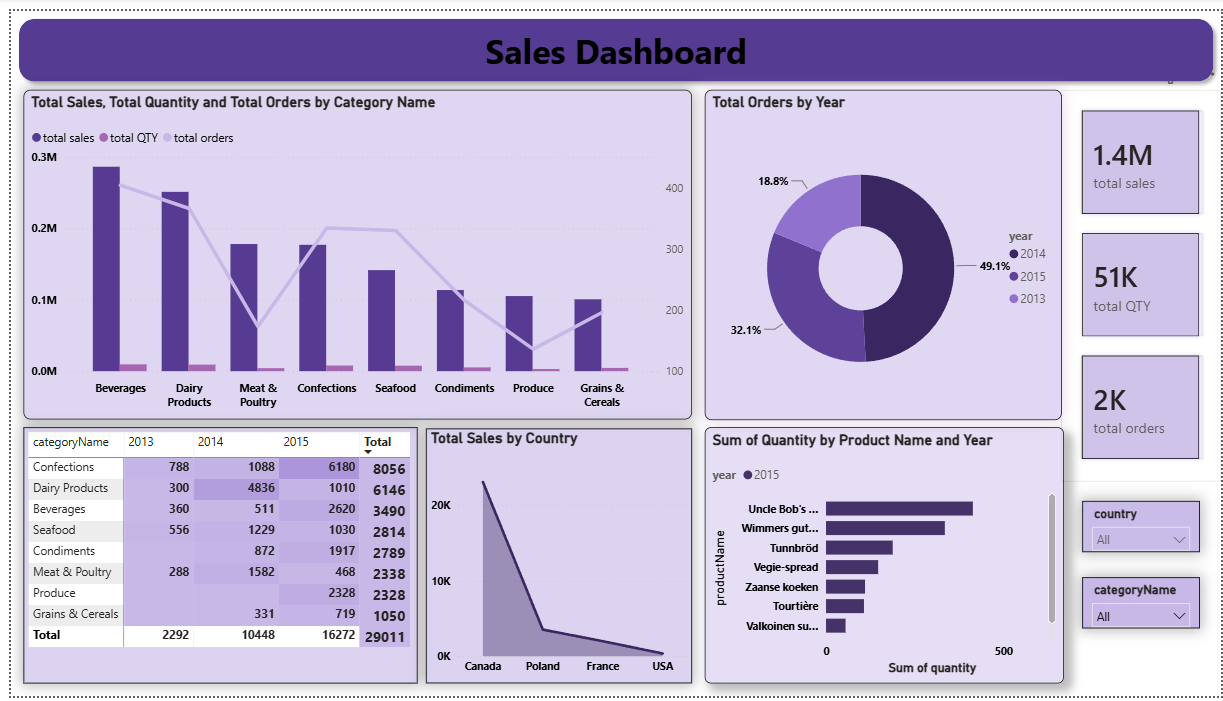

This screenshot's page, from the dashboard's own definition file:
{"tool":"powerbi","page":{"name":"dashboard","canvas":[1383,783],"ordinal":0},"visuals":[{"type":"slicer","fields":{"Values":["customers.country"]},"box":[1224.3,560,134.3,58.6],"z":0},{"type":"slicer","fields":{"Values":["order_details.categoryName"]},"box":[1224.3,647.1,134.3,58.6],"z":1000},{"type":"cardVisual","fields":{"Data":["order_details.total sales","order_details.total QTY","order_details.total orders"]},"box":[1200,90,182.9,448.6],"z":2000},{"type":"shape","box":[0,0,1383.1,89.6],"z":3000},{"type":"pivotTable","fields":{"Columns":["calender date.year"],"Values":["order_details.total sales"],"Rows":["order_details.categoryName"]},"box":[14.3,475.7,450,292.9],"z":4000},{"type":"lineClusteredColumnComboChart","title":"Total Sales, Total Quantity and Total Orders by Category Name","fields":{"Category":["order_details.categoryName"],"Y":["order_details.total sales","order_details.total QTY"],"Y2":["order_details.total orders"]},"box":[14.3,90,764.3,377.1],"z":5000},{"type":"donutChart","title":"Total Orders by Year","fields":{"Y":["order_details.total orders"],"Category":["calender date.year"]},"box":[792.9,90,407.8,377.9],"z":6000},{"type":"clusteredBarChart","title":"Sum of Quantity by Product Name and Year","fields":{"Category":["order_details.productName"],"Series":["calender date.year"],"Y":["Sum(order_details.quantity)"]},"box":[792.9,475.7,410,292.9],"z":7000},{"type":"stackedAreaChart","title":"Total Sales by Country","fields":{"Category":["customers.country"],"Y":["order_details.total sales"]},"box":[474.3,477.1,304.3,291.4],"z":8000}]}

Visuals, with their boxes in screenshot pixels (x1, y1, x2, y2), scaled from the page's 1383x783 canvas onto the 1223x701 screenshot:
slicer - customers.country: 1083/501/1201/554
slicer - order_details.categoryName: 1083/579/1201/632
cardVisual - order_details.total sales x order_details.total QTY: 1061/81/1222/482
shape: 0/0/1222/80
pivotTable - calender date.year x order_details.total sales: 13/426/411/688
"Total Sales, Total Quantity and Total Orders by Category Name" lineClusteredColumnComboChart: 13/81/689/418
"Total Orders by Year" donutChart: 701/81/1062/419
"Sum of Quantity by Product Name and Year" clusteredBarChart: 701/426/1064/688
"Total Sales by Country" stackedAreaChart: 419/427/689/688
